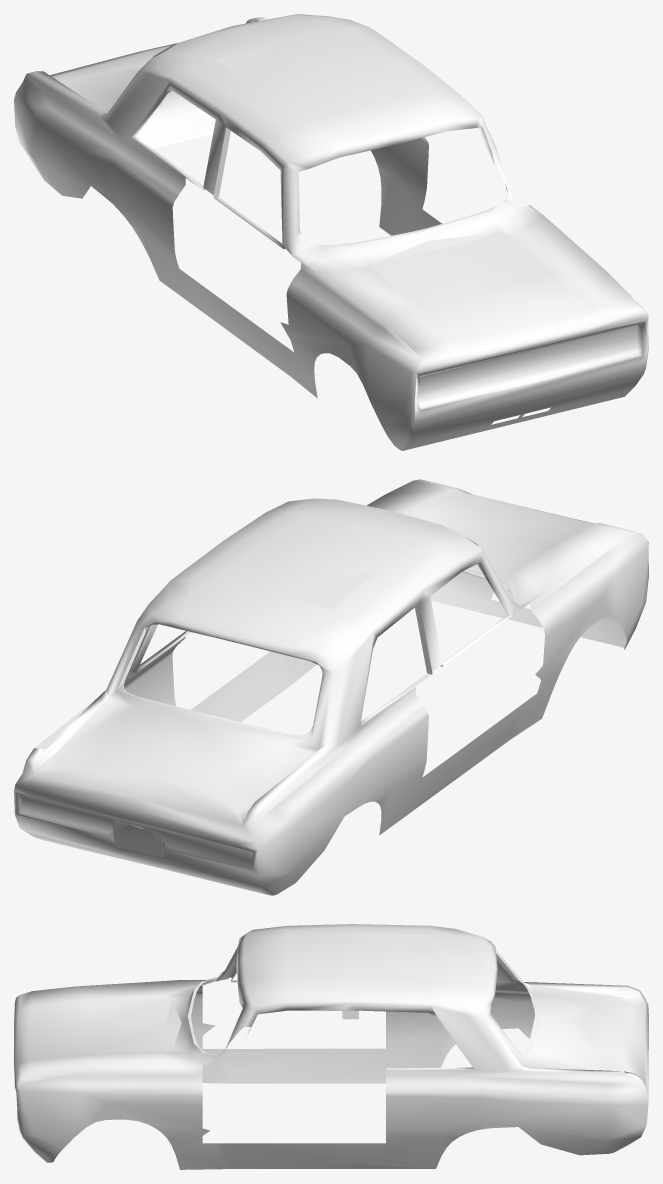
The picture shows the model from 3 angles, top to bottom: view 1: azimuth 30°, elevation 25°; view 2: azimuth 150°, elevation 25°; view 3: azimuth 270°, elevation 25°; orthographic projection. The views are drawn at different scales.
Bounding box in the file's own units: 1.51 × 1.21 × 4.04.
Materials: 1 (1 with a texture image).
